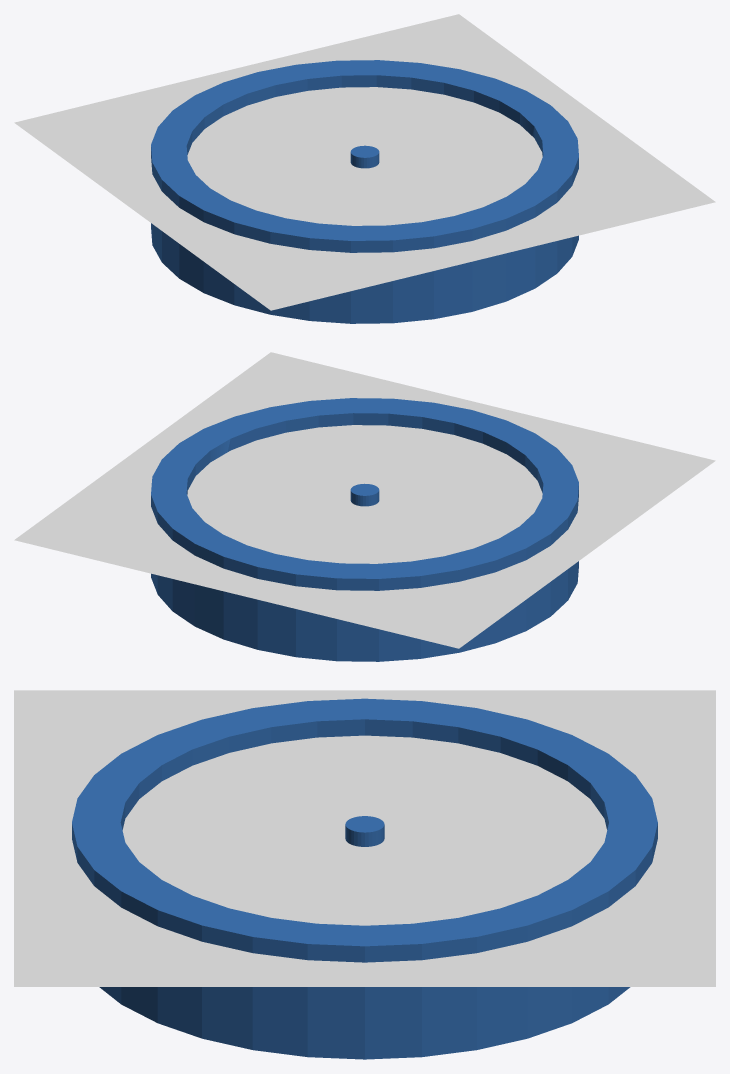
The model's file is clock.glb.
3 views of the same model, one above another, from view 1: azimuth 30°, elevation 25°; view 2: azimuth 150°, elevation 25°; view 3: azimuth 270°, elevation 25° (orthographic). The views are drawn at different scales.
Parts seen in each view (by area): view 1: clock canvas, big clock; view 2: clock canvas, big clock; view 3: clock canvas, big clock.
Part boxes in pixels (bbox=[...]): clock canvas: bbox=[14, 14, 715, 310]; big clock: bbox=[151, 60, 578, 323]; clock canvas: bbox=[14, 352, 715, 648]; big clock: bbox=[151, 398, 578, 661]; clock canvas: bbox=[14, 690, 715, 986]; big clock: bbox=[72, 698, 657, 1059].
Bounding box in the file's own units: 46.21 × 8.22 × 46.21.
2 materials, 1 textured.
